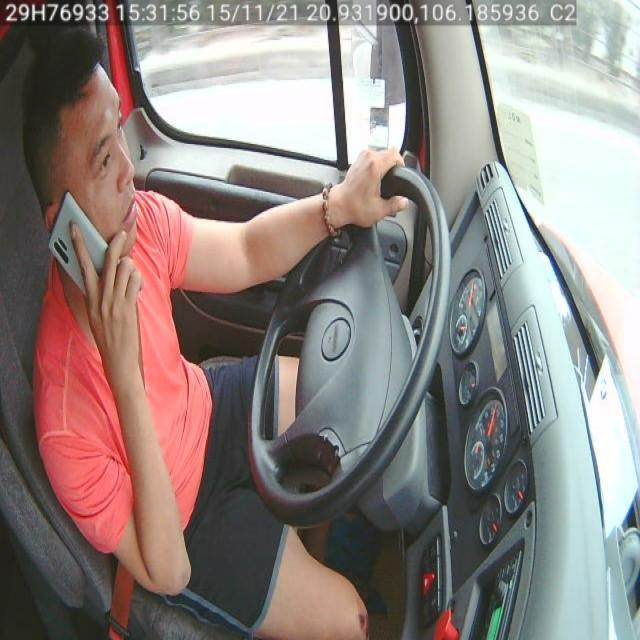phone: (49, 192, 137, 307)
